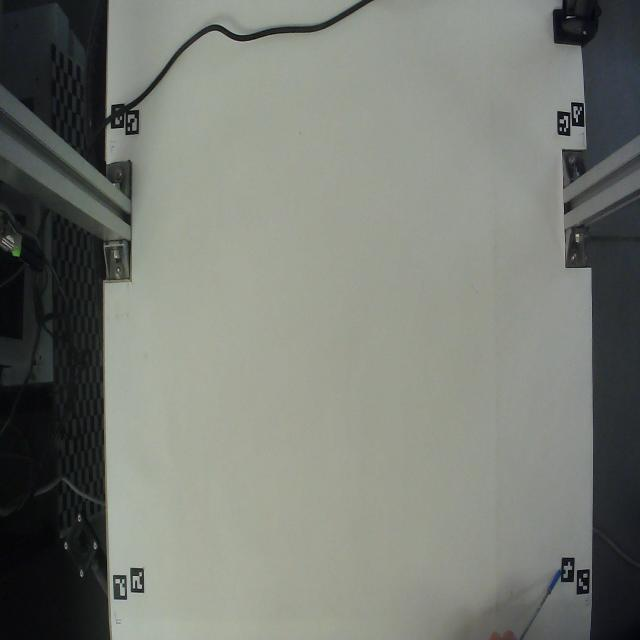Pres: (481, 550, 571, 640)
